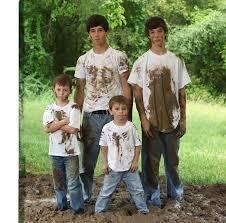earth: (150, 69, 170, 126), (86, 66, 110, 95), (112, 132, 121, 151), (54, 109, 63, 119), (64, 149, 74, 153), (62, 132, 65, 145)
